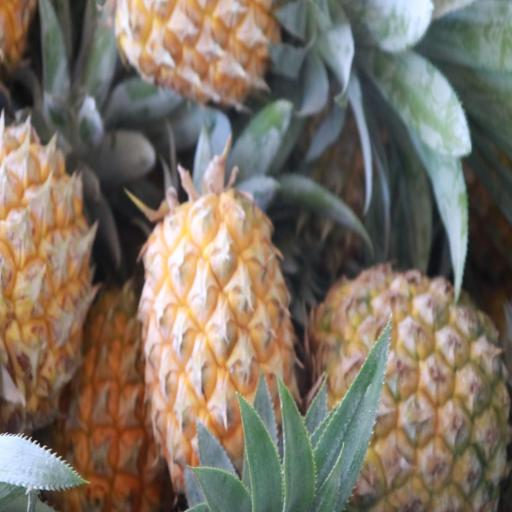Pineapple - v8 v1: (311, 269, 509, 512), (142, 200, 297, 508), (0, 121, 94, 404), (116, 0, 339, 119), (53, 281, 167, 511)
